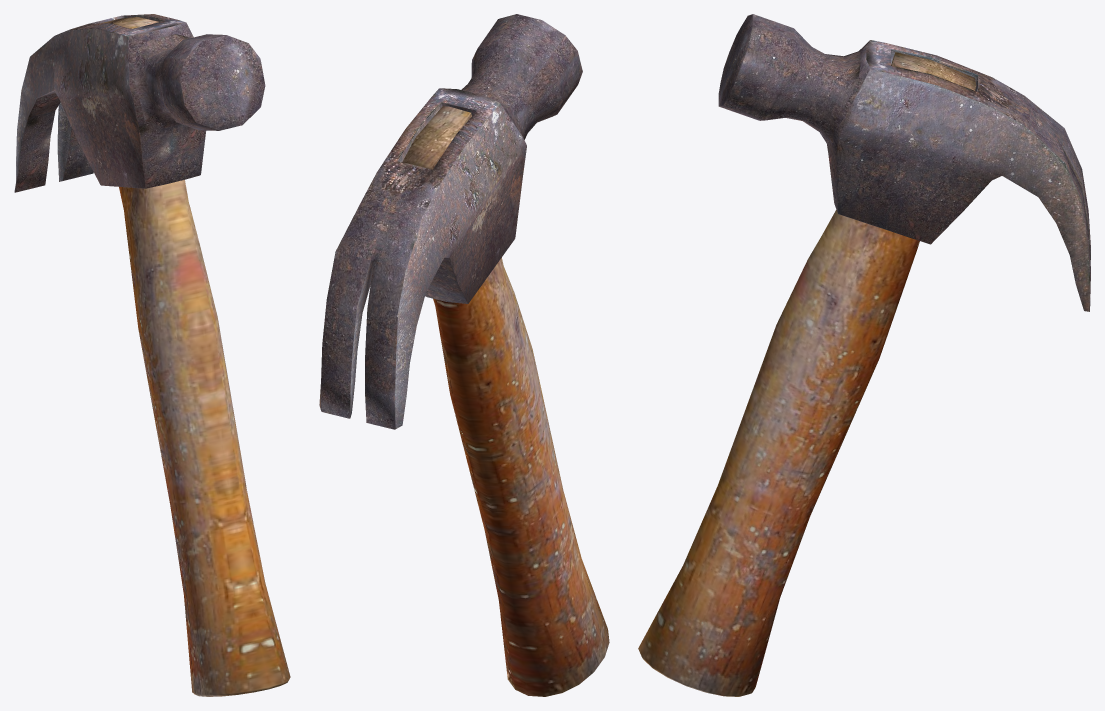
Rendered from Hammer03.obj.
The picture shows the model from 3 angles, left to right: view 1: azimuth 30°, elevation 25°; view 2: azimuth 150°, elevation 25°; view 3: azimuth 270°, elevation 25°; orthographic projection. The views are drawn at different scales.
Parts seen in each view (by area): view 1: Cylinder01, Box01; view 2: Box01, Cylinder01; view 3: Cylinder01, Box01.
Part boxes in pixels (x1=…): Cylinder01: x1=101, y1=17, x2=290, y2=696; Box01: x1=14, y1=14, x2=265, y2=192; Box01: x1=319, y1=14, x2=582, y2=429; Cylinder01: x1=402, y1=106, x2=609, y2=696; Cylinder01: x1=638, y1=52, x2=976, y2=696; Box01: x1=718, y1=14, x2=1090, y2=311.
Size of the model in its own units: 8.94 by 68.23 by 41.86.
Materials: 2 (2 with a texture image).
